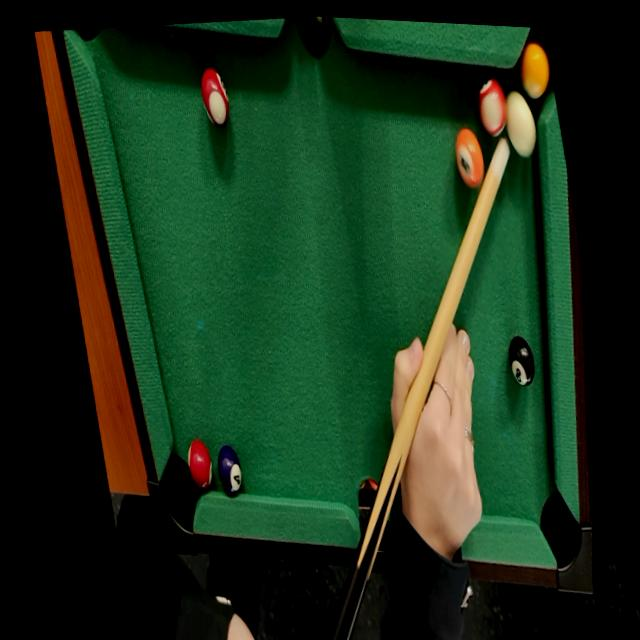cue ball: (501, 88, 542, 165)
other: (446, 116, 489, 196), (193, 57, 235, 134), (469, 68, 512, 137), (516, 31, 555, 106), (212, 434, 249, 500), (180, 428, 216, 492), (502, 333, 536, 388)
